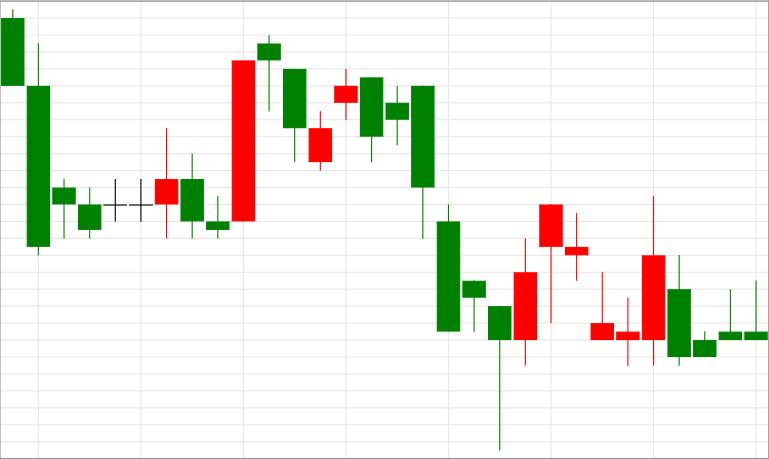hammer_rise: (359, 77, 511, 451)
